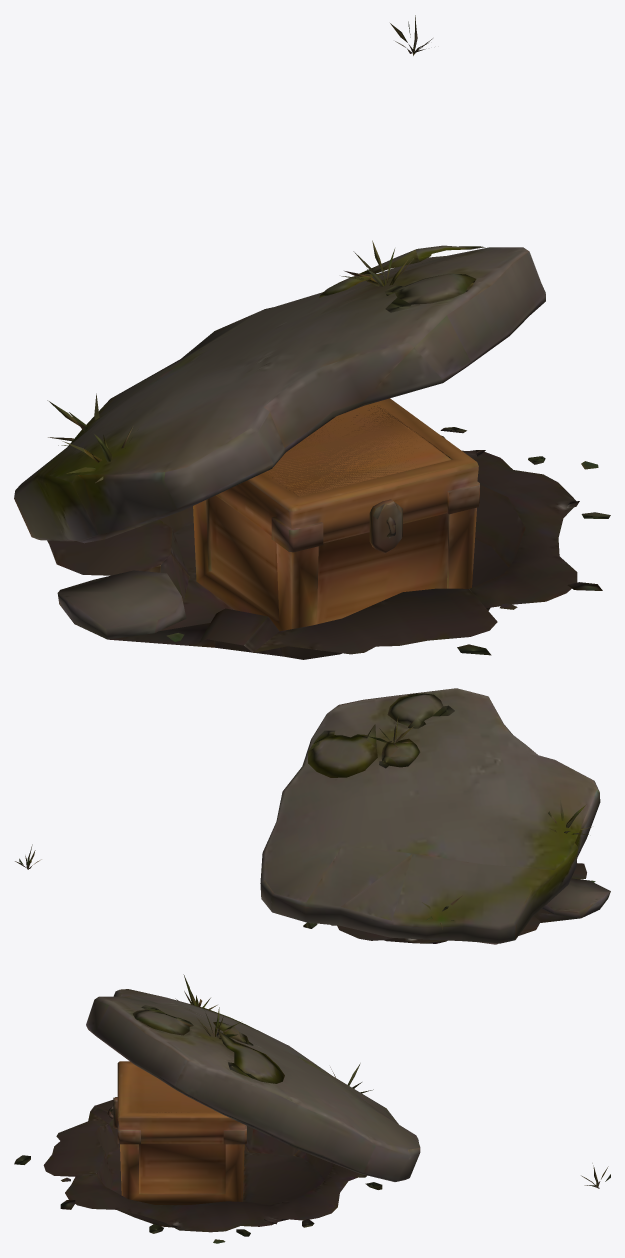
File: wyn_accord_hidden_cache.glb
3 views of the same model, one above another, from view 1: azimuth 30°, elevation 25°; view 2: azimuth 150°, elevation 25°; view 3: azimuth 270°, elevation 25° (orthographic). The views are drawn at different scales.
Visible parts, largest first — view 1: tripo_node_5b07b706-bdcf-4579-b389-6d09d8aeacdb; view 2: tripo_node_5b07b706-bdcf-4579-b389-6d09d8aeacdb; view 3: tripo_node_5b07b706-bdcf-4579-b389-6d09d8aeacdb.
Boxes of the visible parts, <box> form: tripo_node_5b07b706-bdcf-4579-b389-6d09d8aeacdb: <box>14,15,610,659</box>; tripo_node_5b07b706-bdcf-4579-b389-6d09d8aeacdb: <box>15,688,610,944</box>; tripo_node_5b07b706-bdcf-4579-b389-6d09d8aeacdb: <box>14,974,610,1243</box>.
Bounding box in the file's own units: 1.06 × 0.45 × 1.26.
1 material, 1 textured.
